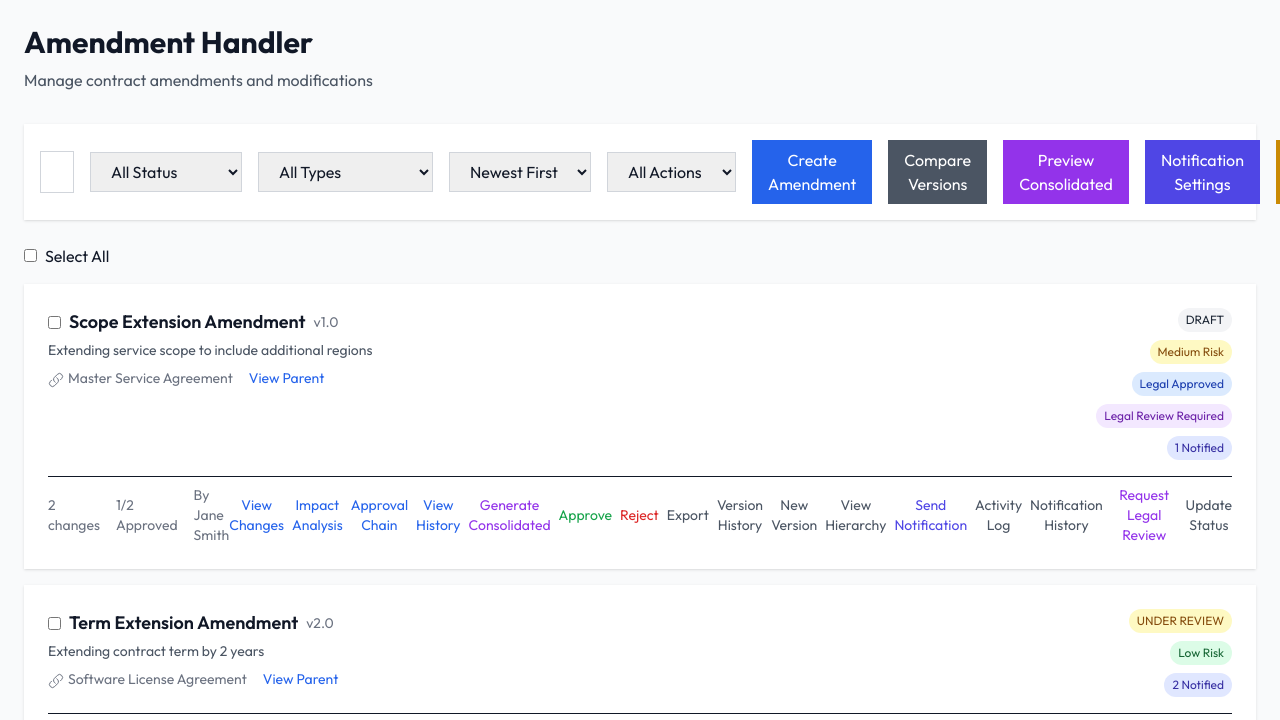
Scenario: AmendmentHandler › Amendment Request Workflow › should open amendment request form
The width and height of the screenshot is (1280, 720).
Click the button "Create Amendment". click: (812, 172)
box: top-left (752, 140), bottom-right (872, 204)
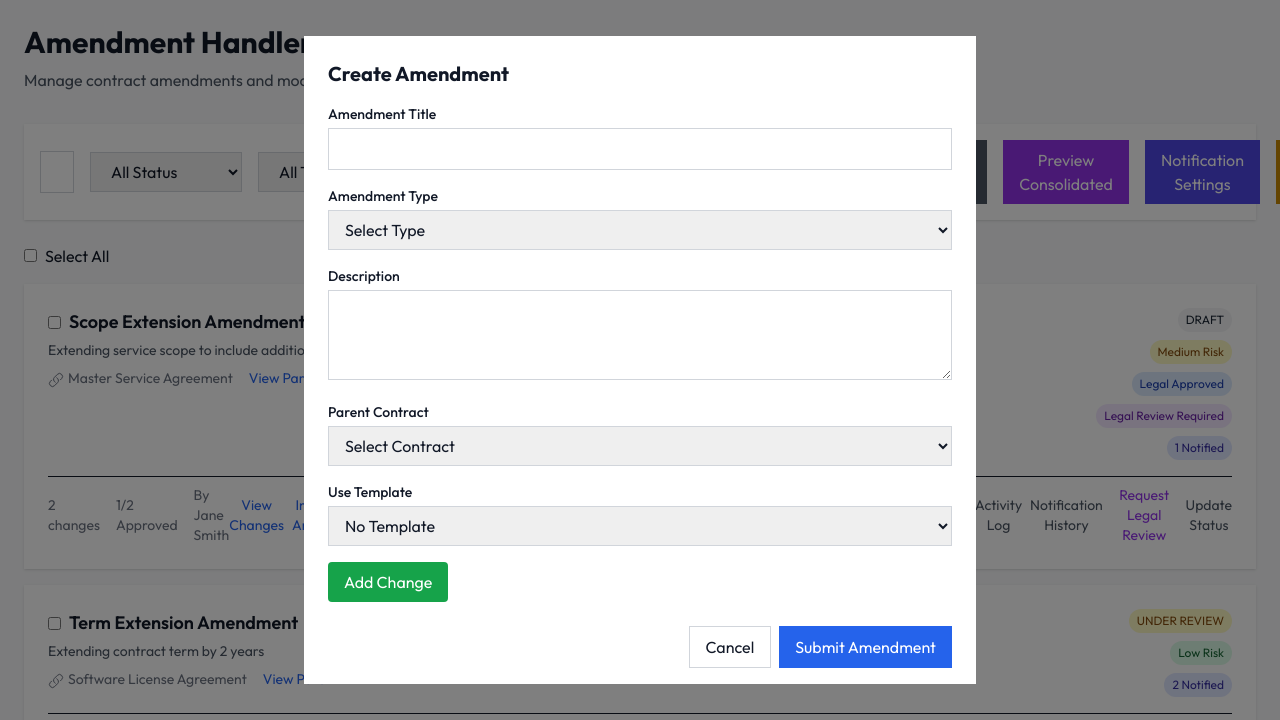
Expected: the element with test id "amendment-request-form" is shown
Expected: the field labelled "Amendment Title" is shown, top-left (328, 128), bottom-right (952, 170)
Expected: the dropdown labelled "Amendment Type" is shown, top-left (328, 210), bottom-right (952, 250)
